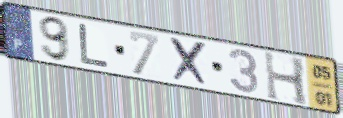3: (226, 47, 261, 96)
7: (128, 29, 163, 77)
9: (36, 16, 73, 63)
H: (262, 49, 311, 108)
L: (77, 22, 112, 70)
X: (169, 35, 212, 89)
